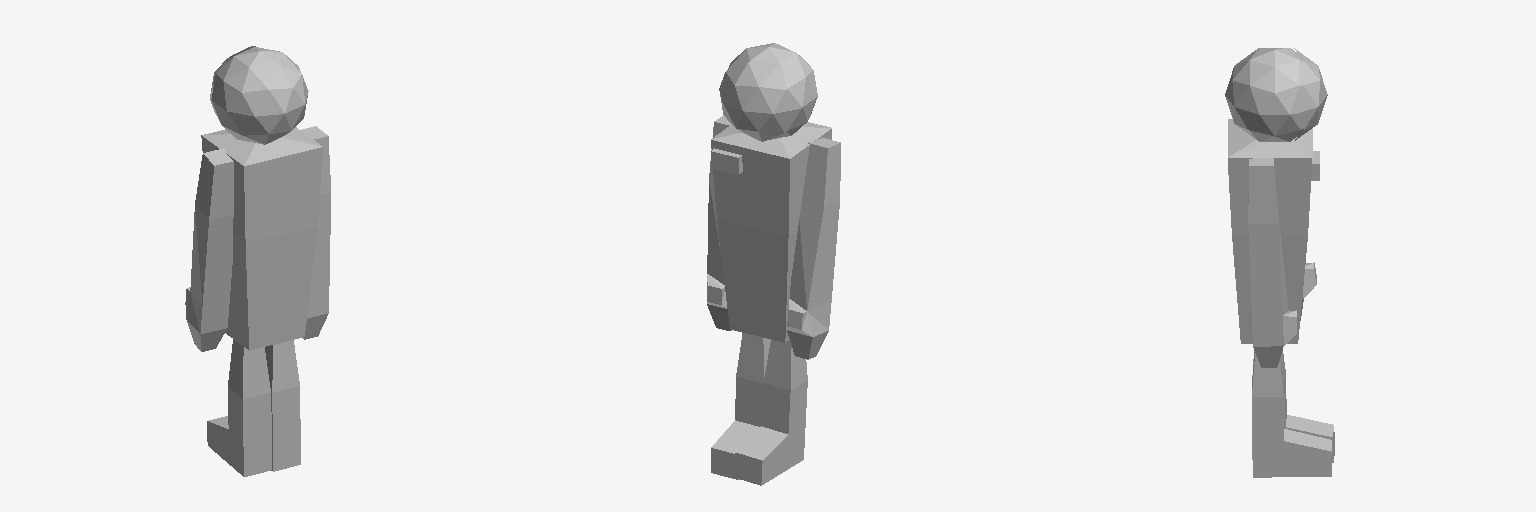
File: player 1.obj
3 views of the same model, side by side, from view 1: azimuth 30°, elevation 25°; view 2: azimuth 150°, elevation 25°; view 3: azimuth 270°, elevation 25° (orthographic).
Visible parts, largest first — view 1: Cube, Cube.004, Icosphere, Cube.002, Cube.001, Cube.003; view 2: Cube, Cube.004, Cube.002, Icosphere.001, Cube.001, Icosphere, Cube.003, Cube.005; view 3: Cube, Cube.003, Icosphere, Cube.001, Icosphere.001, Cube.002.
Boxes of the visible parts, box(x1,y1,x2,y2) form: Cube: box(201, 127, 322, 350); Cube.004: box(185, 148, 233, 351); Icosphere: box(211, 47, 308, 144); Cube.002: box(207, 339, 271, 476); Cube.001: box(265, 340, 300, 471); Cube.003: box(301, 126, 330, 339); Cube: box(711, 122, 831, 342); Cube.004: box(787, 138, 840, 359); Cube.002: box(734, 340, 807, 485); Icosphere.001: box(719, 62, 800, 141); Cube.001: box(711, 333, 770, 479); Icosphere: box(727, 43, 817, 139); Cube.003: box(707, 115, 731, 330); Cube.005: box(711, 148, 742, 174); Cube: box(1228, 119, 1312, 343); Cube.003: box(1248, 158, 1296, 367); Icosphere: box(1225, 48, 1303, 141); Cube.001: box(1252, 352, 1331, 477); Icosphere.001: box(1294, 48, 1327, 140); Cube.002: box(1252, 351, 1334, 462).
Bounding box in the file's own units: 0.7241 × 2.41 × 0.5807.